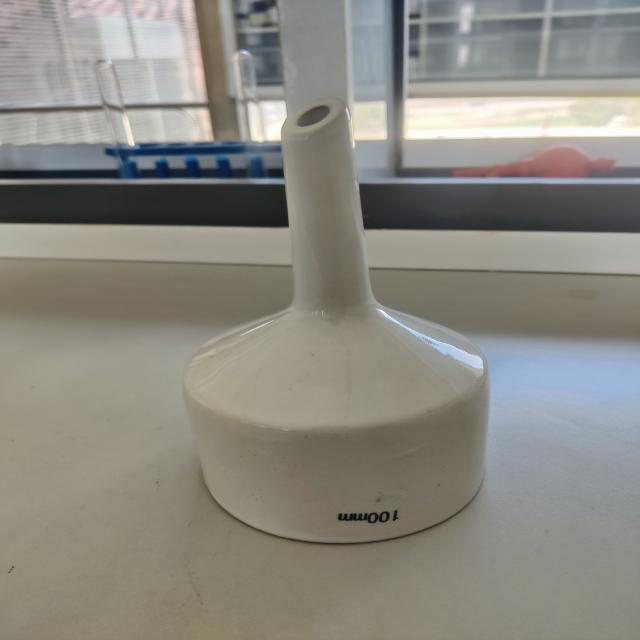Buchner_Funnel: (160, 72, 531, 568)
